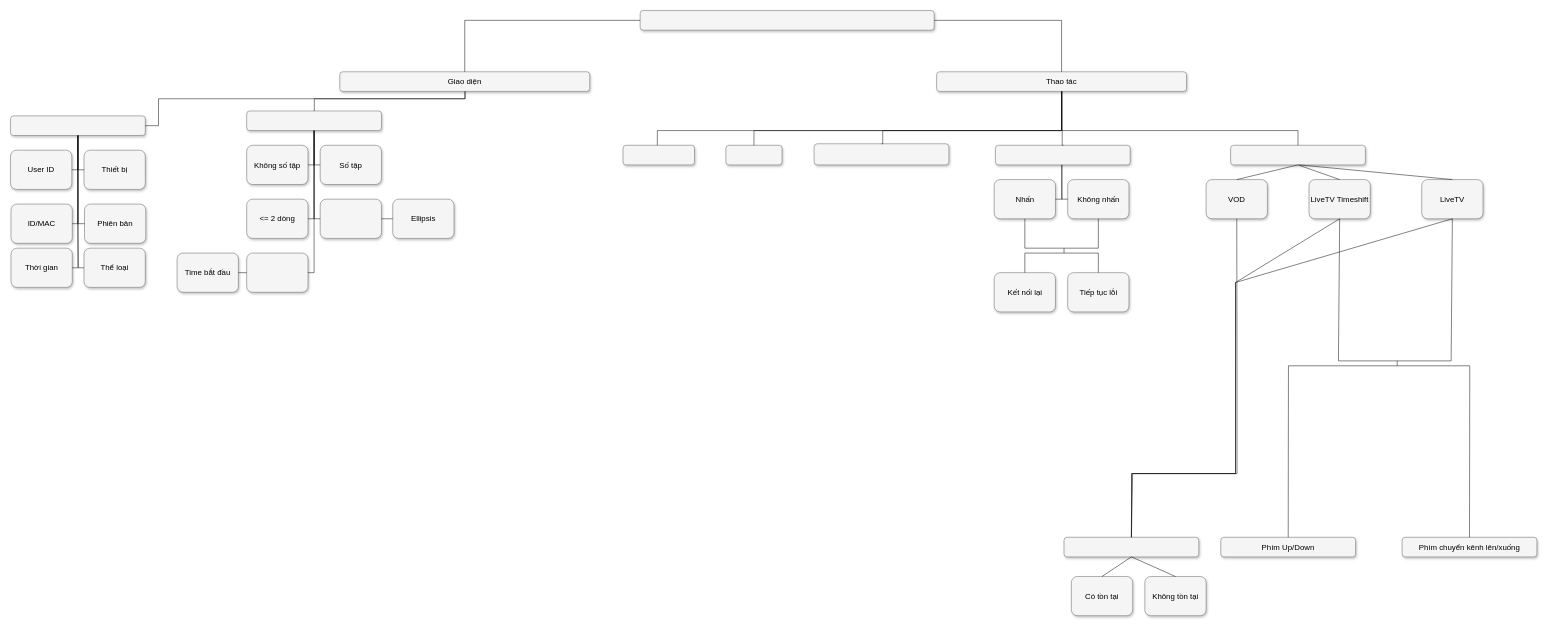
Image size: 1548x628. Some labels were removed from this diagram. Here are the shapes that lost their labels. From the top down, the centre of each, then its label:
pixel 787 21: Thông báo lỗi
pixel 78 126: Chung
pixel 314 121: Nội dung
pixel 659 155: Button Power
pixel 754 155: Button Voice
pixel 882 154: Di chuyển qua lại
pixel 1063 155: Button "Thử lại"
pixel 1298 155: Nhấn "Bỏ qua"/Back
pixel 351 219: > 2 dòng
pixel 277 273: LiveTV TS
pixel 1132 547: Phím số
